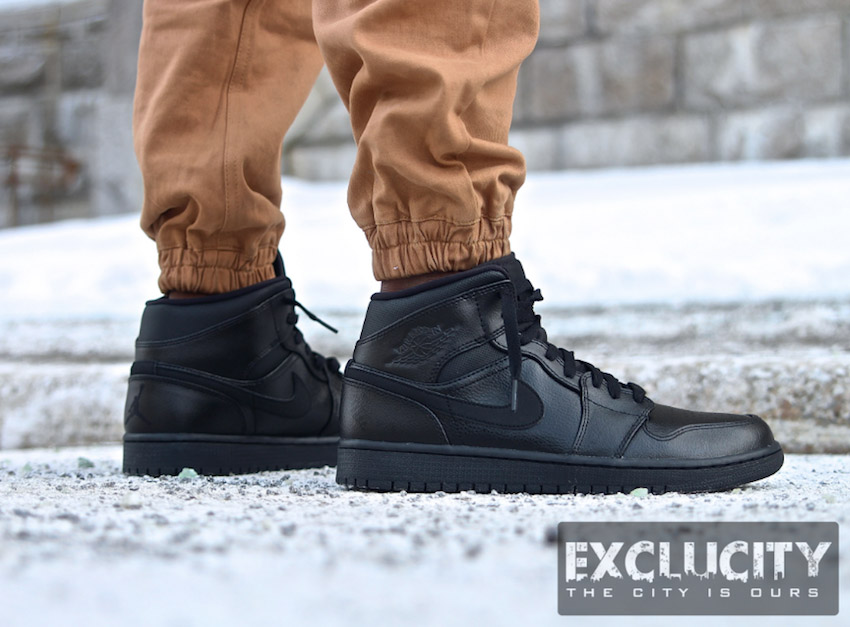Jordan 1: (326, 252, 795, 502)
